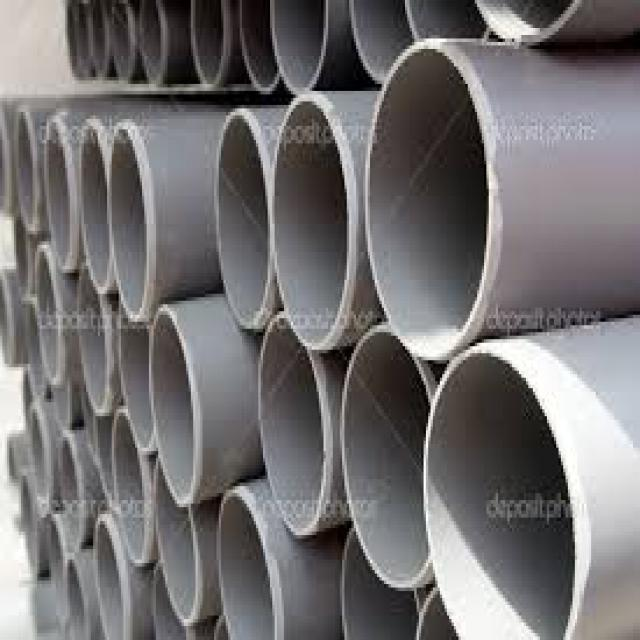pipe: (424, 353, 575, 640), (366, 42, 488, 358), (342, 332, 427, 591), (272, 100, 350, 346), (259, 317, 325, 534), (216, 114, 268, 326), (150, 310, 195, 503), (216, 493, 275, 640), (342, 535, 418, 640), (155, 463, 200, 623), (109, 126, 147, 312), (113, 412, 148, 561), (119, 309, 153, 452), (80, 121, 108, 290), (79, 264, 109, 408), (46, 118, 71, 266), (93, 521, 124, 640), (34, 249, 59, 383), (15, 112, 35, 229), (27, 409, 47, 515), (60, 439, 79, 548), (47, 521, 63, 617), (69, 562, 86, 640)
